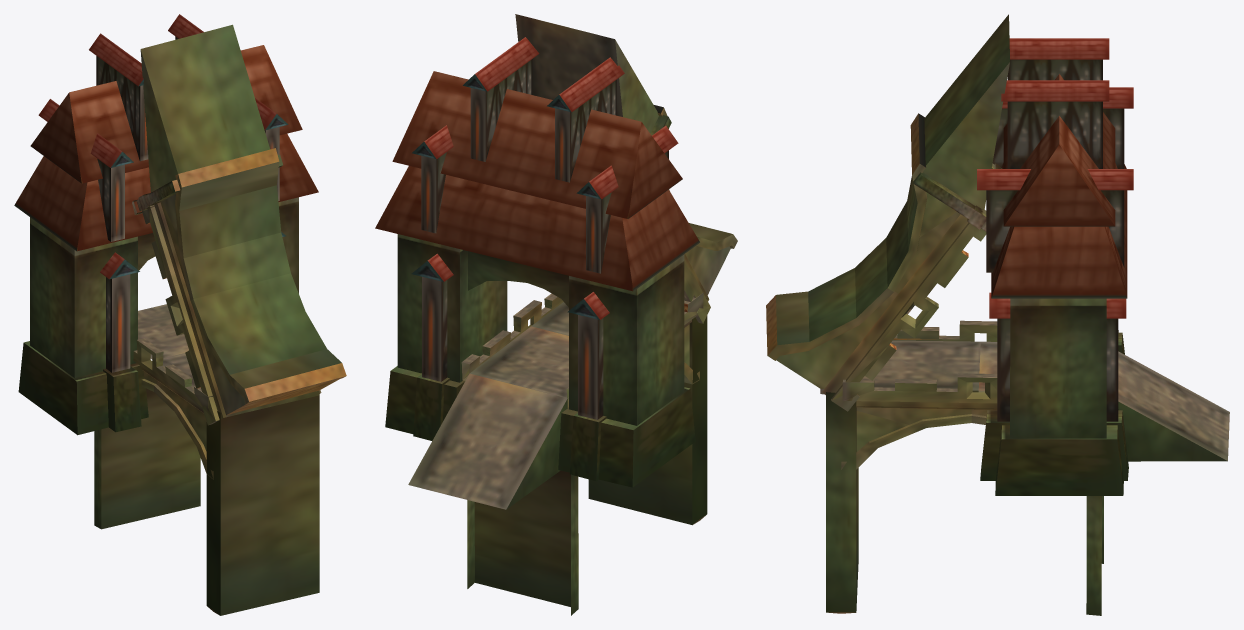
Rendered from gate_03_b_SpWait.FBX.
The picture shows the model from 3 angles, left to right: view 1: azimuth 30°, elevation 25°; view 2: azimuth 150°, elevation 25°; view 3: azimuth 270°, elevation 25°; orthographic projection. The views are drawn at different scales.
Visible parts, largest first — view 1: Bridge_01a, gate_02_c_2, Bridge_01b; view 2: gate_02_c_2, Bridge_01b, Bridge_01a; view 3: gate_02_c_2, Bridge_01a, Bridge_01b.
Boxes of the visible parts, x1,y1,x2,y2 form: Bridge_01a: (132,24,346,425); gate_02_c_2: (14,14,318,435); Bridge_01b: (94,304,319,615); gate_02_c_2: (375,37,699,487); Bridge_01b: (408,293,707,615); Bridge_01a: (515,14,737,323); gate_02_c_2: (977,38,1133,495); Bridge_01a: (766,14,1009,411); Bridge_01b: (820,320,1229,615).
Bounding box in the file's own units: 968 × 1945 × 1479.
